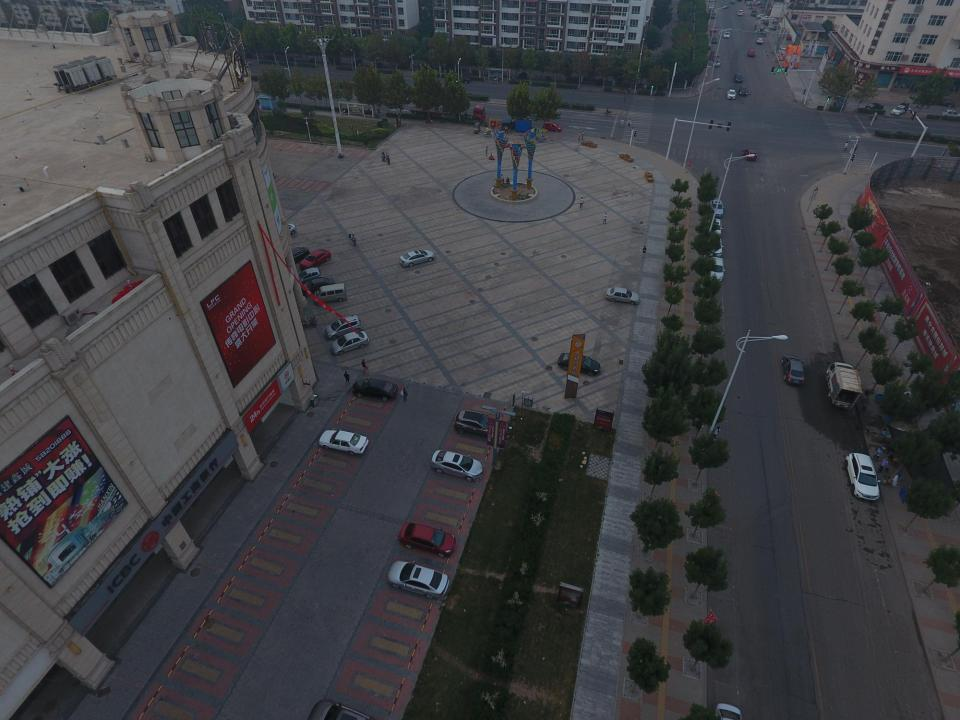car: (387, 560, 450, 600), (398, 522, 455, 558), (845, 452, 880, 502), (430, 450, 484, 481), (454, 410, 499, 440), (306, 699, 368, 720), (319, 429, 368, 455), (352, 375, 398, 402), (557, 352, 600, 376), (324, 314, 362, 340), (331, 331, 368, 355), (299, 278, 335, 297), (782, 355, 804, 385), (300, 249, 331, 270), (400, 249, 434, 267), (606, 287, 640, 305), (277, 247, 310, 265), (293, 267, 323, 285), (270, 224, 296, 241), (707, 257, 725, 281), (707, 236, 724, 256), (708, 198, 724, 217), (708, 218, 722, 235), (543, 121, 561, 132), (864, 103, 884, 112), (891, 105, 907, 116), (743, 150, 757, 160), (739, 86, 748, 95), (728, 90, 736, 100), (734, 74, 744, 82), (713, 57, 720, 67), (748, 50, 756, 57), (778, 47, 786, 54), (710, 37, 718, 44), (756, 38, 763, 44), (724, 32, 730, 38), (738, 10, 744, 16), (708, 4, 714, 10), (723, 3, 728, 8), (729, 0, 735, 3)
truck: (827, 362, 862, 410), (410, 104, 486, 122), (832, 96, 848, 109)
van: (314, 284, 346, 304), (708, 7, 716, 19)
